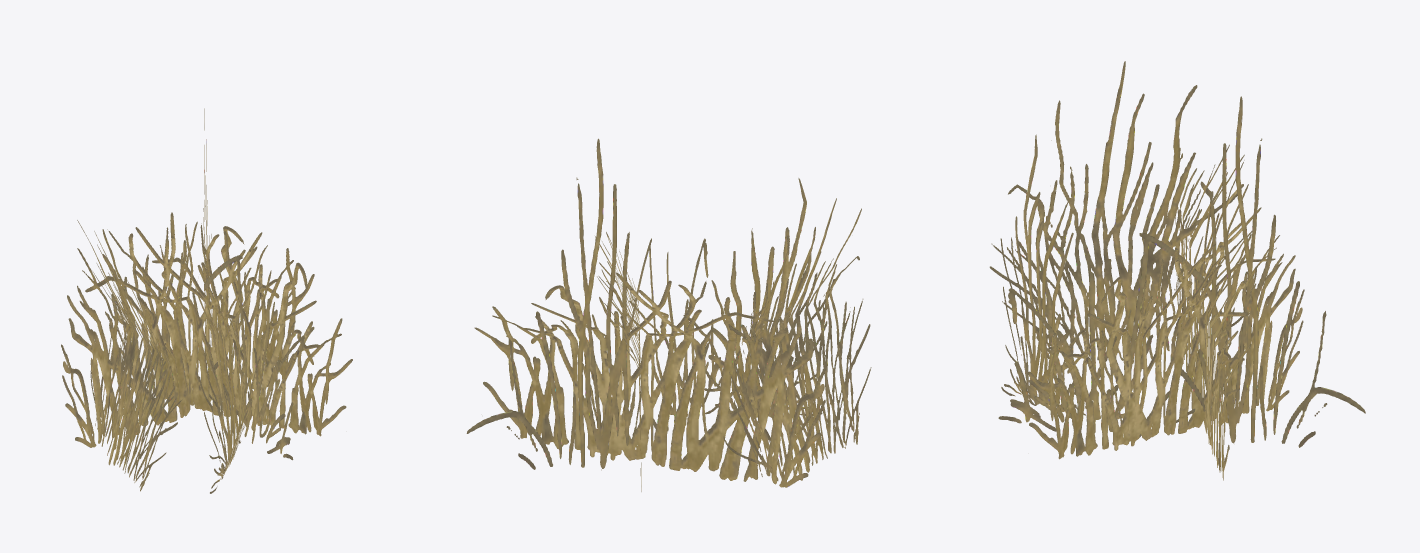
File: valley-dry-grass-3.glb
3 views of the same model, side by side, from view 1: azimuth 30°, elevation 25°; view 2: azimuth 150°, elevation 25°; view 3: azimuth 270°, elevation 25° (orthographic). The views are drawn at different scales.
Visible parts, largest first — view 1: clump_dry_grass_8_M_dry_grass_0; view 2: clump_dry_grass_8_M_dry_grass_0; view 3: clump_dry_grass_8_M_dry_grass_0.
Boxes of the visible parts, box(x1,y1,x2,y2) form: clump_dry_grass_8_M_dry_grass_0: box(61, 108, 352, 493); clump_dry_grass_8_M_dry_grass_0: box(466, 138, 871, 491); clump_dry_grass_8_M_dry_grass_0: box(989, 61, 1365, 480).
Size of the model in its own units: 0.6458 by 0.72 by 0.6665.
Materials: 1 (1 with a texture image).
